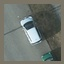car: (19, 15, 42, 46)
